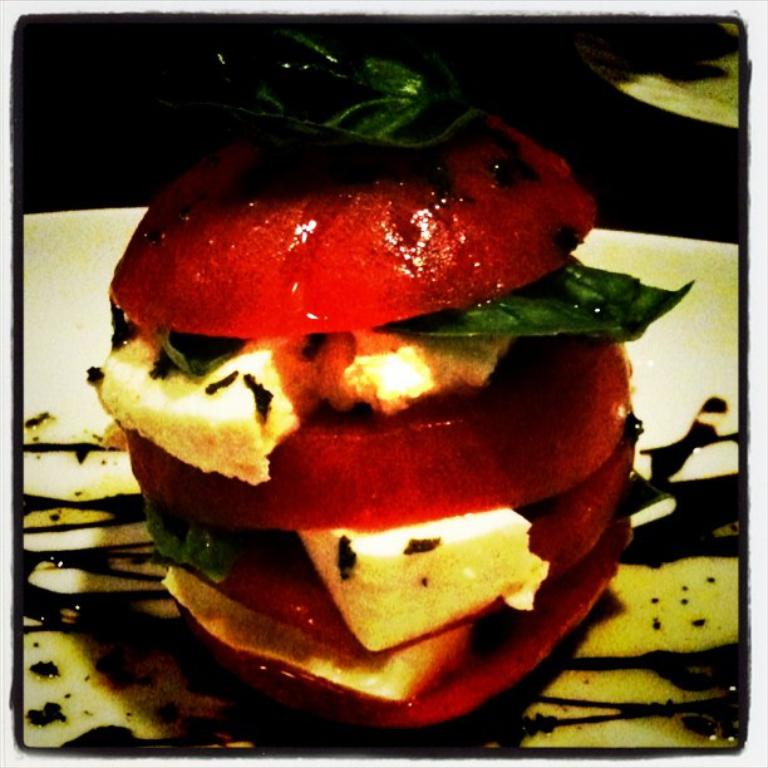Hamburger: (85, 23, 691, 730)
